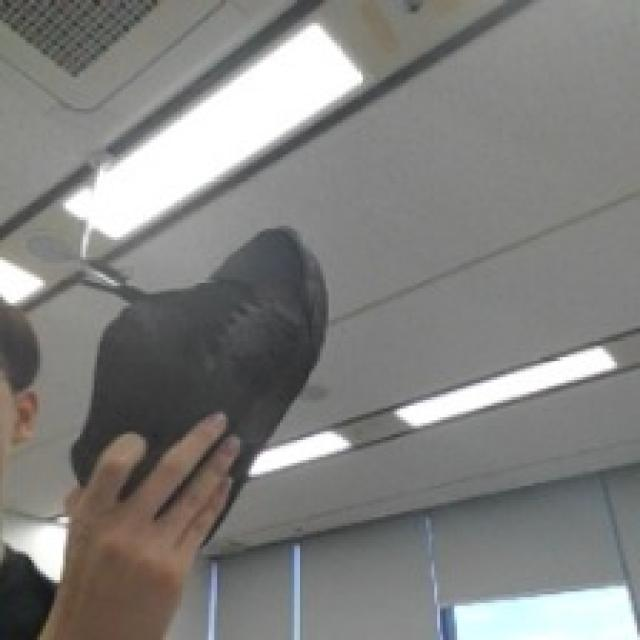shoe: (58, 214, 340, 533)
